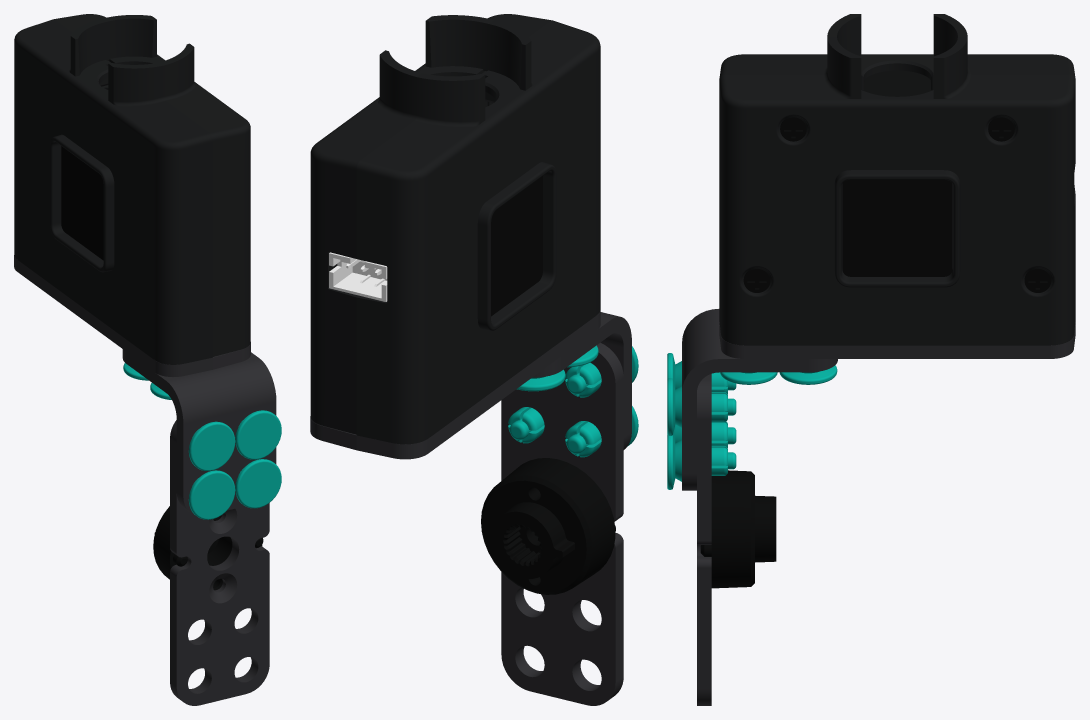
Rendered from pan_asm_2.dae.
3 renders of one model, left to right at view 1: azimuth 30°, elevation 25°; view 2: azimuth 150°, elevation 25°; view 3: azimuth 270°, elevation 25°, orthographic. The views are drawn at different scales.
Parts seen in each view (by area): view 1: FBXASC048000050494, FBXASC048000058256, FBXASC048000050498, FBXASC048000050663, FBXASC048000050518_1_ncl1_2, FBXASC048000050515, FBXASC048000058255, FBXASC048000050810_1_ncl1_7, FBXASC048000050810_1_ncl1_4, FBXASC048000050810_1_ncl1_6, FBXASC048000050810_1_ncl1_5; view 2: FBXASC048000050494, FBXASC048000058256, FBXASC048000050498, FBXASC048000058255, FBXASC048000050518_1_ncl1_2, FBXASC048000050515, FBXASC048000050663, FBXASC048000050958, FBXASC048000050817_1_ncl1_7, FBXASC048000050817_1_ncl1_6, FBXASC048000050817_1_ncl1_5, FBXASC048000050810_1_ncl1_1 (+1 smaller); view 3: FBXASC048000050498, FBXASC048000050518, FBXASC048000050494, FBXASC048000058255, FBXASC048000050663, FBXASC048000050515, FBXASC048000058256, FBXASC048000050817_1_ncl1_7, FBXASC048000050817_1_ncl1_4, FBXASC048000050810_1_ncl1_2, FBXASC048000050810_1_ncl1_4.
Boxes of the visible parts, left/top/right/bottom form: FBXASC048000050494: left=14, top=19, right=212, bottom=364; FBXASC048000058256: left=170, top=420, right=269, bottom=705; FBXASC048000050498: left=54, top=14, right=250, bottom=356; FBXASC048000050663: left=122, top=349, right=276, bottom=514; FBXASC048000050518_1_ncl1_2: left=61, top=146, right=103, bottom=260; FBXASC048000050515: left=14, top=255, right=250, bottom=376; FBXASC048000058255: left=153, top=506, right=263, bottom=590; FBXASC048000050810_1_ncl1_7: left=235, top=459, right=281, bottom=508; FBXASC048000050810_1_ncl1_4: left=235, top=410, right=281, bottom=459; FBXASC048000050810_1_ncl1_6: left=188, top=470, right=235, bottom=519; FBXASC048000050810_1_ncl1_5: left=188, top=421, right=235, bottom=471; FBXASC048000050494: left=356, top=20, right=600, bottom=444; FBXASC048000058256: left=501, top=342, right=623, bottom=705; FBXASC048000050498: left=310, top=14, right=551, bottom=434; FBXASC048000058255: left=481, top=458, right=615, bottom=594; FBXASC048000050518_1_ncl1_2: left=491, top=176, right=542, bottom=316; FBXASC048000050515: left=310, top=310, right=600, bottom=459; FBXASC048000050663: left=532, top=312, right=631, bottom=449; FBXASC048000050958: left=329, top=252, right=387, bottom=301; FBXASC048000050817_1_ncl1_7: left=508, top=407, right=544, bottom=443; FBXASC048000050817_1_ncl1_6: left=565, top=421, right=601, bottom=457; FBXASC048000050817_1_ncl1_5: left=565, top=362, right=601, bottom=397; FBXASC048000050810_1_ncl1_1: left=516, top=369, right=565, bottom=391; FBXASC048000050498: left=719, top=36, right=1075, bottom=345; FBXASC048000050518: left=842, top=179, right=952, bottom=276; FBXASC048000050494: left=719, top=14, right=1075, bottom=195; FBXASC048000058255: left=700, top=470, right=776, bottom=588; FBXASC048000050663: left=682, top=309, right=837, bottom=490; FBXASC048000050515: left=719, top=322, right=1075, bottom=358; FBXASC048000058256: left=697, top=374, right=711, bottom=705; FBXASC048000050817_1_ncl1_7: left=675, top=440, right=727, bottom=481; FBXASC048000050817_1_ncl1_4: left=675, top=386, right=727, bottom=427; FBXASC048000050810_1_ncl1_2: left=779, top=365, right=837, bottom=384; FBXASC048000050810_1_ncl1_4: left=667, top=378, right=736, bottom=435.
Size of the model in its own units: 0.019 by 0.0973 by 0.055.
